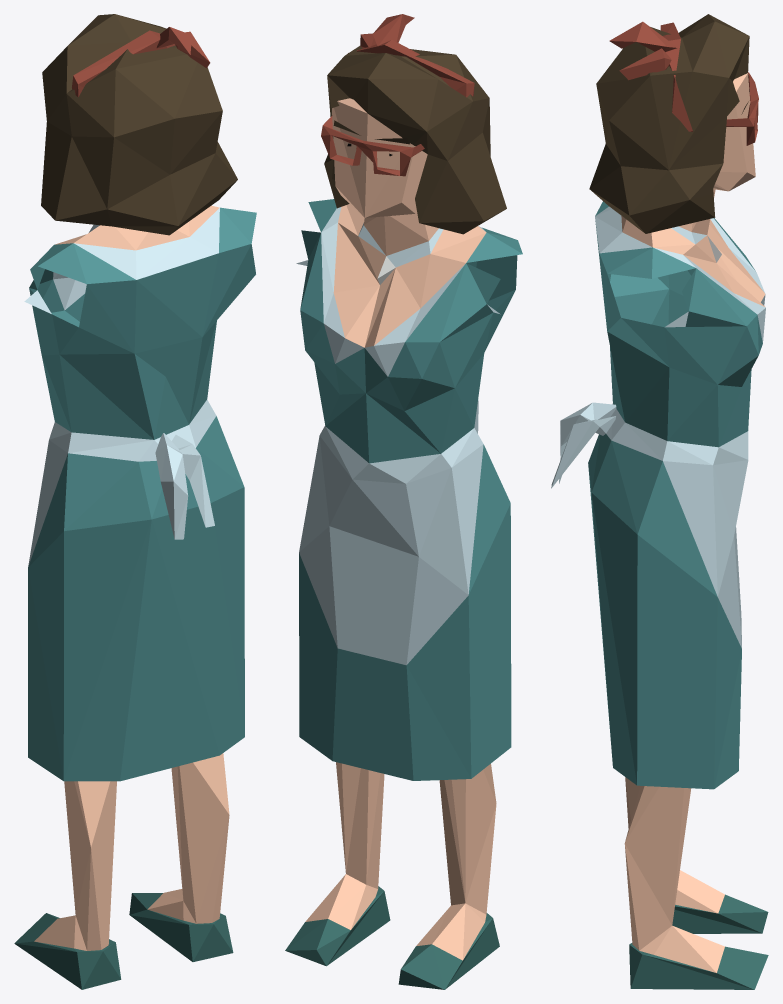
The model's file is Body_Lo.obj.
The picture shows the model from 3 angles, left to right: view 1: azimuth 30°, elevation 25°; view 2: azimuth 150°, elevation 25°; view 3: azimuth 270°, elevation 25°; orthographic projection. The views are drawn at different scales.
Size of the model in its own units: 0.4558 by 1.86 by 0.3899.
Materials: 1 (1 with a texture image).
